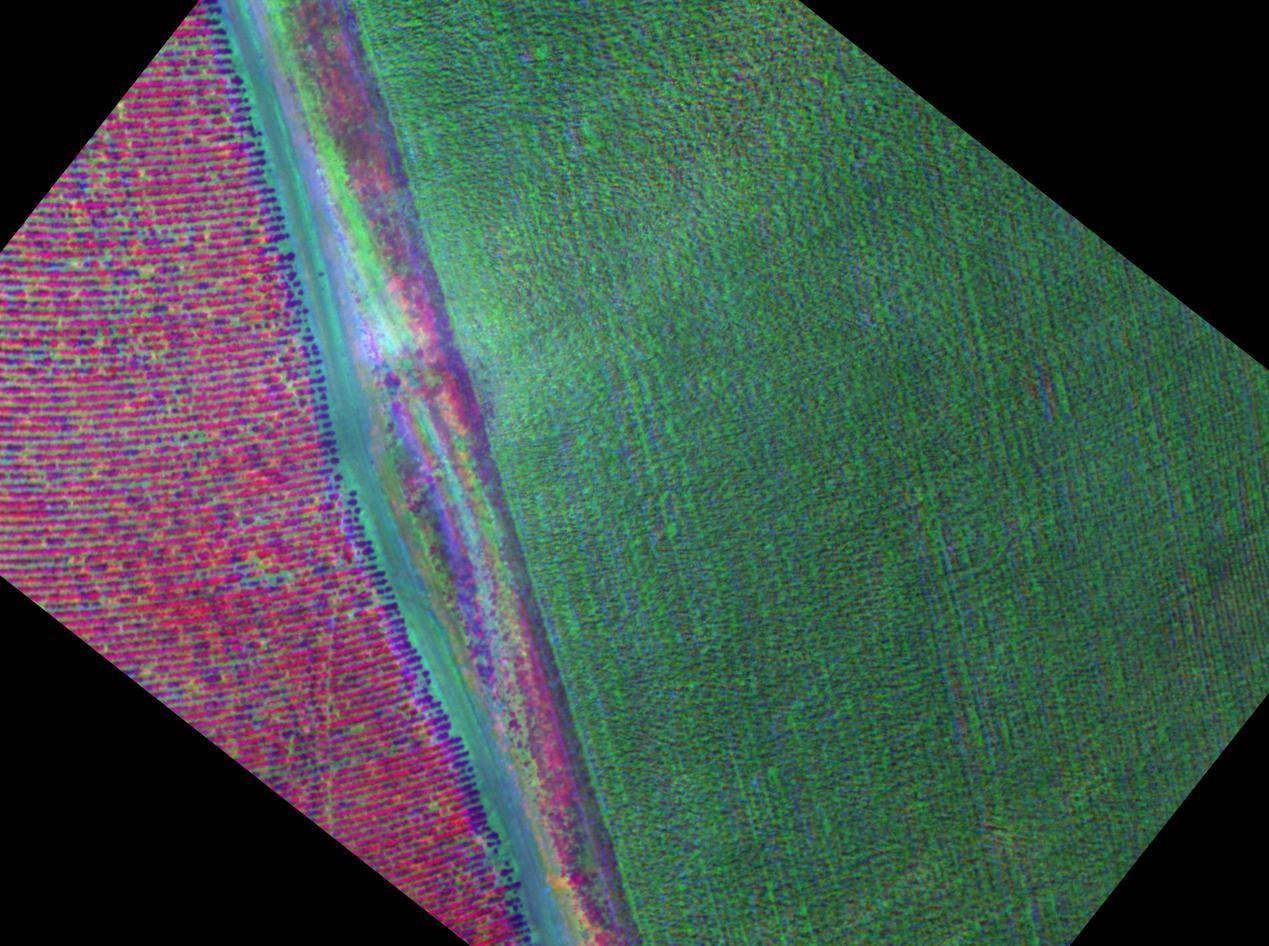dc: (96, 135, 184, 250), (3, 248, 87, 350), (0, 438, 85, 532), (211, 533, 302, 609), (141, 370, 212, 438)
